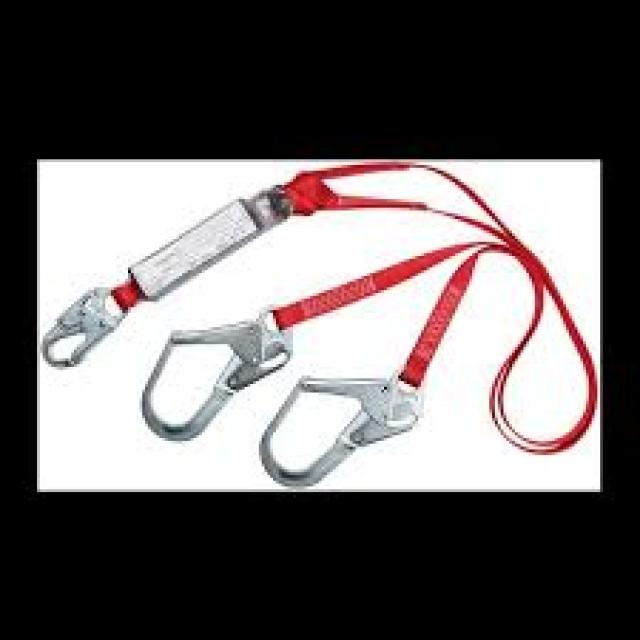harness: (40, 157, 596, 487)
